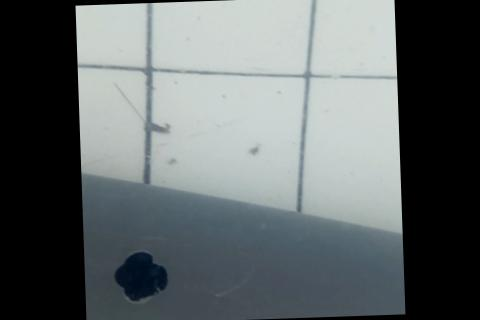kebocoran: (110, 247, 172, 306)
